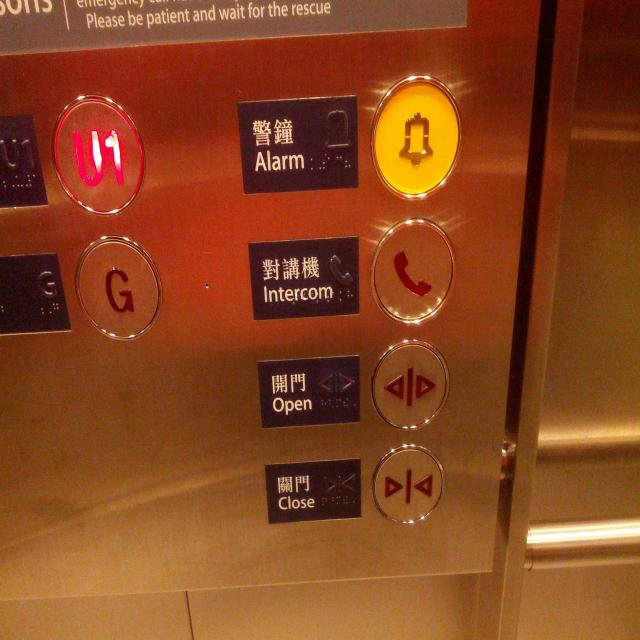G: (74, 233, 164, 345)
U1: (52, 89, 144, 218)
alarm: (368, 72, 464, 204)
call: (368, 215, 458, 329)
close: (368, 440, 446, 529)
open: (368, 336, 452, 433)
text_alarm bell: (234, 93, 361, 196)
text_close door: (262, 454, 363, 528)
text_intercom: (246, 234, 361, 322)
text_open door: (254, 354, 364, 431)
